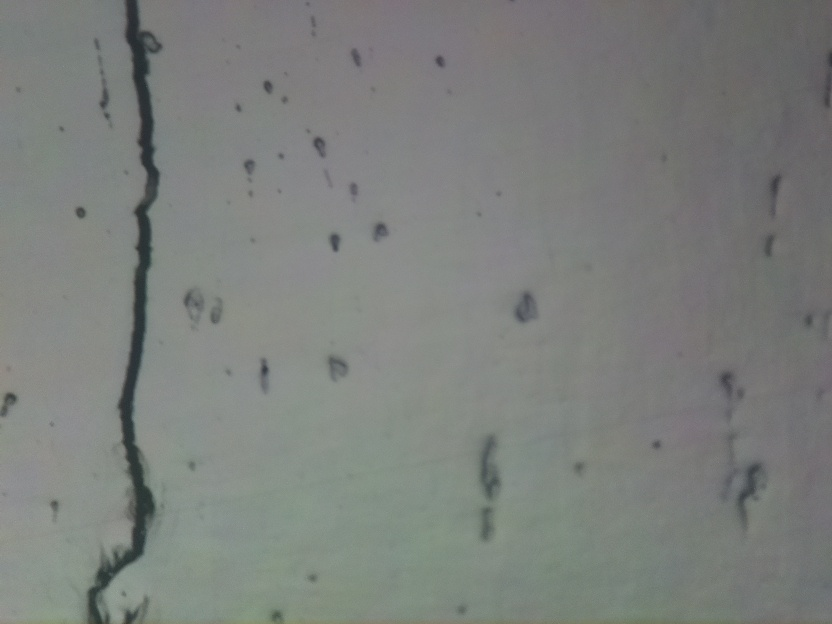crack: (84, 0, 162, 624)
